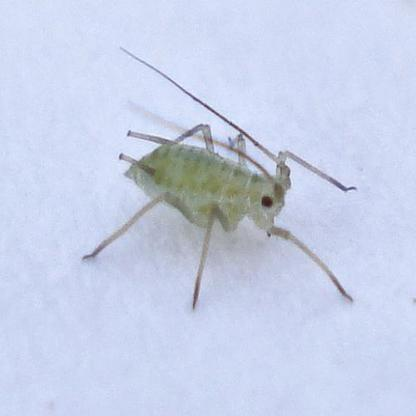aphid: (81, 43, 362, 300)
